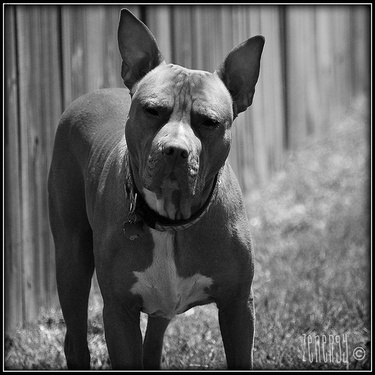dog: (44, 11, 272, 368)
